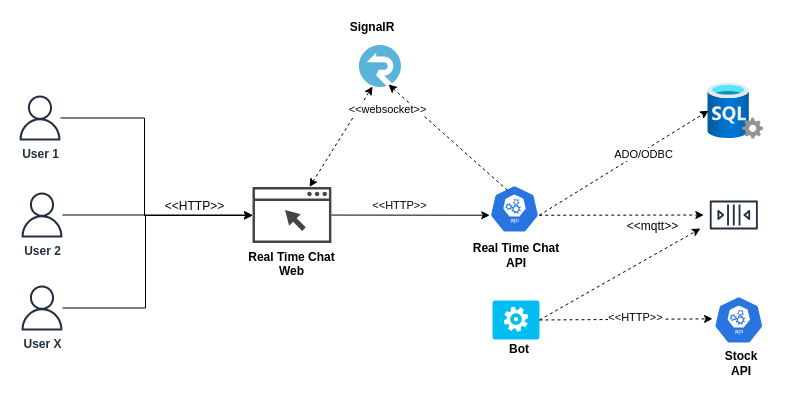
Some shapes in this 809 by 395 pixel diagram are drawn without their labels. The box of each missing label's shape, as (x1, y1, x2, y2) in pixels:
RabbitMQ Queue: (703, 184, 764, 245)
SQLServer Database: (707, 83, 763, 139)
